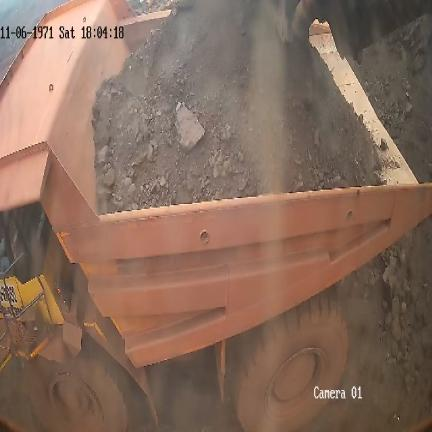pile: (94, 5, 382, 213), (338, 218, 431, 414), (349, 14, 431, 177)
